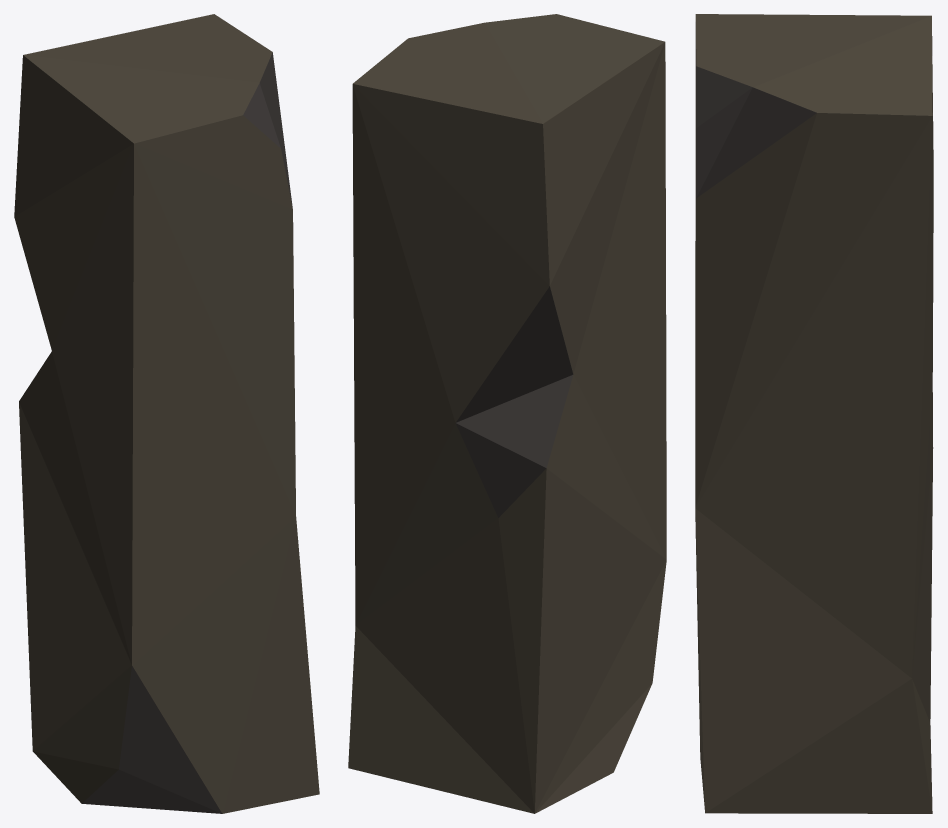
File: Pillar_3B_LOD.fbx
3 renders of one model, left to right at view 1: azimuth 30°, elevation 25°; view 2: azimuth 150°, elevation 25°; view 3: azimuth 270°, elevation 25°, orthographic.
Parts seen in each view (by area): view 1: Group65523; view 2: Group65523; view 3: Group65523.
Boxes of the visible parts, x1,y1,x2,y2 form: Group65523: [14, 14, 319, 813]; Group65523: [348, 14, 666, 813]; Group65523: [695, 14, 933, 813].
Bounding box in the file's own units: 1.28 × 4.15 × 1.27.
